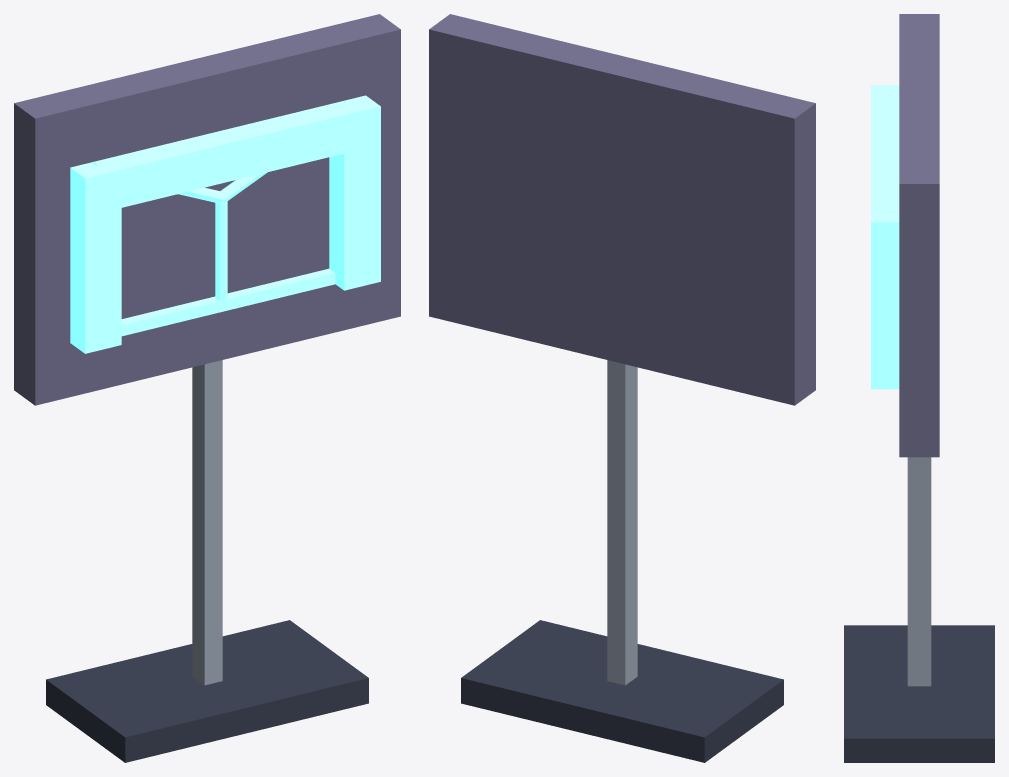
The model's file is neon-dispatch-neon-parcel-shop-sign__179.glb.
3 views of the same model, side by side, from view 1: azimuth 30°, elevation 25°; view 2: azimuth 150°, elevation 25°; view 3: azimuth 270°, elevation 25° (orthographic). The views are drawn at different scales.
Parts seen in each view (by area): view 1: shell, light, dark, metal; view 2: shell, dark, metal; view 3: dark, shell, light, metal.
Part boxes in pixels (<box>): shell: <box>14,14,400,405</box>; light: <box>70,95,380,353</box>; dark: <box>46,620,368,762</box>; metal: <box>192,360,222,685</box>; shell: <box>429,14,815,405</box>; dark: <box>461,620,783,762</box>; metal: <box>607,360,637,685</box>; dark: <box>844,625,994,762</box>; shell: <box>899,14,939,457</box>; light: <box>871,85,899,389</box>; metal: <box>907,457,931,686</box>.
Bounding box in the file's own units: 1.2 × 2 × 0.45.
